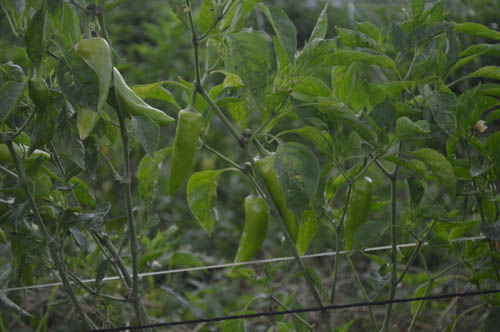ChiliPepper: (257, 148, 302, 240), (73, 42, 112, 145), (109, 71, 172, 126), (167, 110, 202, 197), (236, 196, 271, 266), (345, 178, 369, 245)
